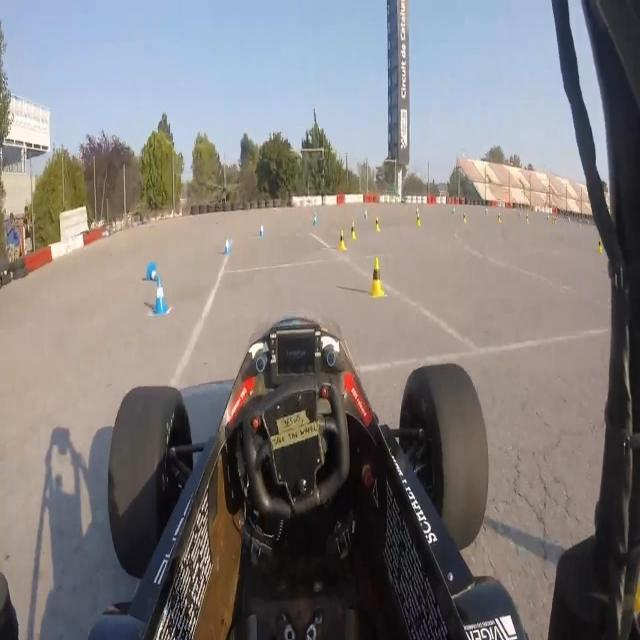blue_cone: (152, 279, 168, 318), (145, 260, 161, 284), (224, 232, 232, 256), (313, 211, 320, 229), (258, 221, 264, 239)
yellow_cone: (368, 255, 385, 298), (338, 226, 347, 252), (351, 220, 358, 242), (374, 215, 381, 236), (597, 237, 602, 254), (416, 212, 421, 227), (463, 213, 467, 224), (498, 212, 501, 224), (526, 213, 529, 223)
